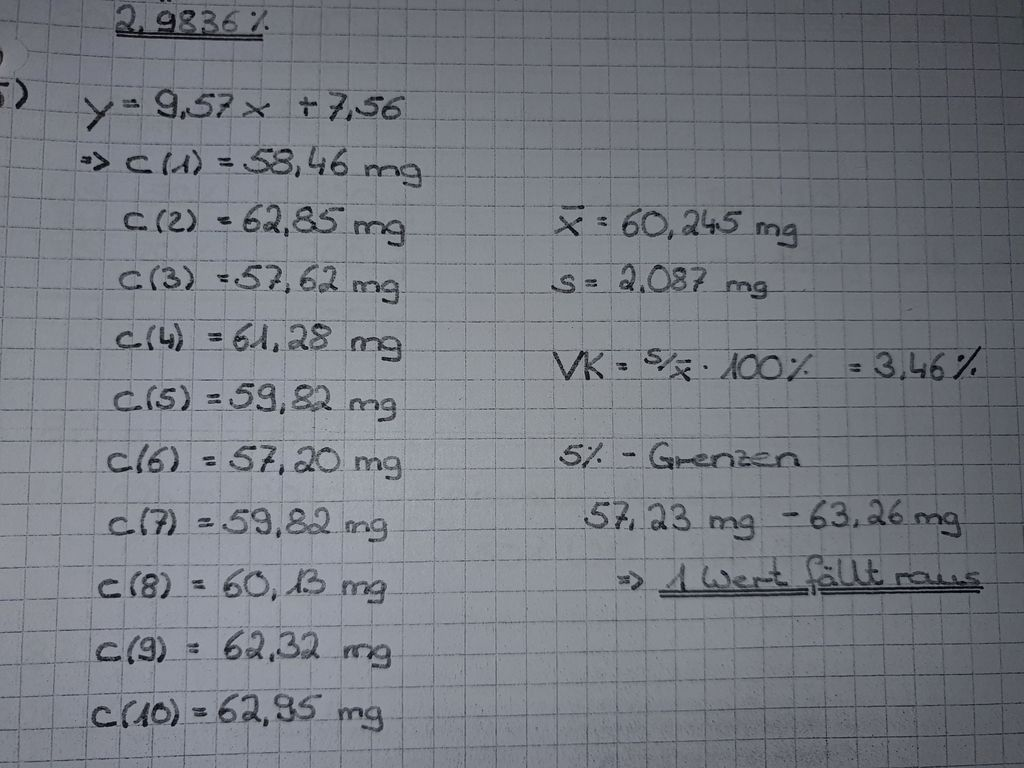equals: (121, 81, 153, 115), (186, 570, 218, 598), (180, 634, 208, 665), (207, 260, 234, 290), (837, 353, 866, 380), (192, 509, 217, 540), (209, 147, 236, 174), (211, 207, 238, 233), (202, 384, 228, 411), (195, 444, 220, 471), (201, 324, 230, 347), (188, 702, 211, 730), (612, 355, 637, 377), (582, 271, 603, 296), (591, 211, 610, 232)
equation: (532, 328, 994, 390), (573, 482, 975, 540), (72, 679, 397, 745), (64, 72, 420, 131), (109, 136, 442, 198), (78, 619, 411, 681), (93, 426, 413, 487), (101, 367, 423, 427), (110, 250, 419, 312), (86, 557, 400, 617), (534, 189, 803, 254), (103, 309, 414, 365), (95, 492, 400, 549), (528, 248, 793, 308), (108, 197, 419, 247)
fraction: (642, 337, 829, 386)
separator: (774, 501, 806, 527)
term: (228, 436, 406, 485), (620, 199, 804, 245), (218, 559, 389, 607), (218, 625, 398, 670), (234, 254, 405, 301), (211, 690, 384, 731), (809, 493, 964, 537), (583, 492, 756, 531), (245, 146, 427, 183), (226, 502, 396, 540), (236, 379, 403, 417), (247, 203, 414, 239), (233, 324, 401, 358), (613, 263, 772, 298), (153, 85, 281, 123), (870, 342, 980, 381), (87, 692, 182, 735), (323, 82, 408, 129), (92, 561, 174, 607), (113, 257, 198, 298), (91, 627, 170, 667), (110, 378, 191, 417), (103, 436, 185, 474), (125, 198, 200, 238), (113, 317, 192, 354), (124, 144, 202, 181), (106, 501, 180, 540), (544, 345, 607, 384), (79, 91, 122, 130), (548, 203, 585, 240), (547, 262, 577, 300)
